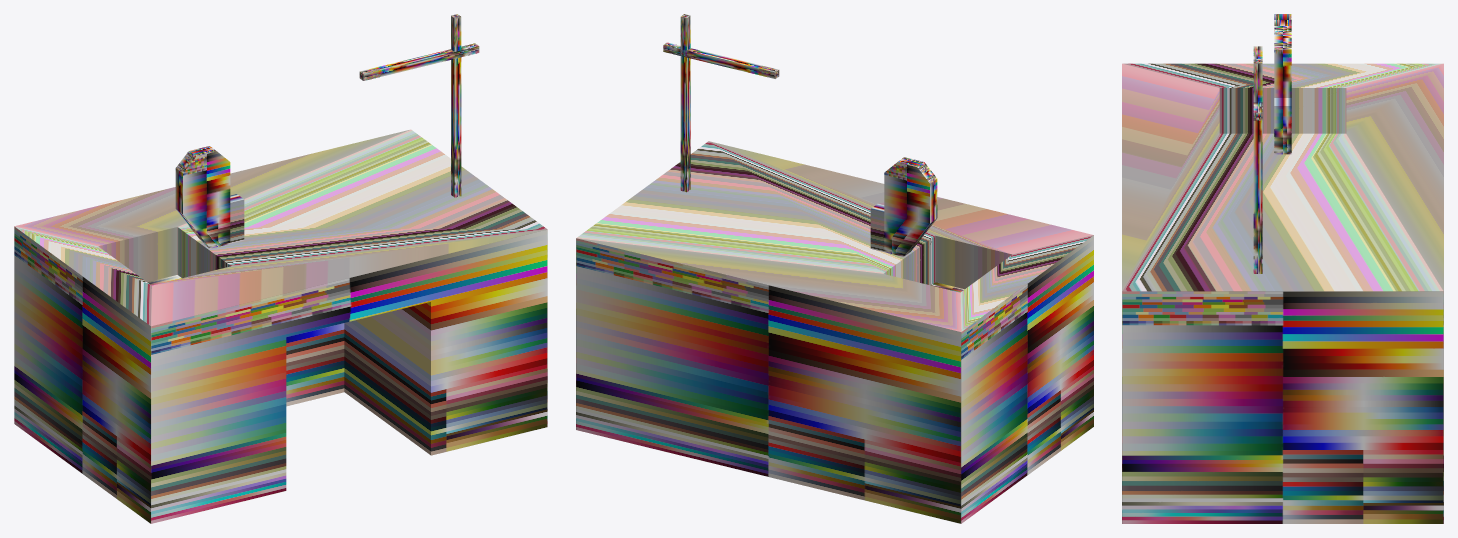
The model's file is CR_sci_Table_001_Collider.FBX.
3 views of the same model, side by side, from view 1: azimuth 30°, elevation 25°; view 2: azimuth 150°, elevation 25°; view 3: azimuth 270°, elevation 25° (orthographic). The views are drawn at different scales.
Visible parts, largest first — view 1: CR_sci_Table_001_Collider; view 2: CR_sci_Table_001_Collider; view 3: CR_sci_Table_001_Collider.
Boxes of the visible parts, <box> form: CR_sci_Table_001_Collider: <box>14,14,547,523</box>; CR_sci_Table_001_Collider: <box>576,14,1093,523</box>; CR_sci_Table_001_Collider: <box>1122,14,1443,523</box>.
Size of the model in its own units: 12656 by 11487 by 7551.
